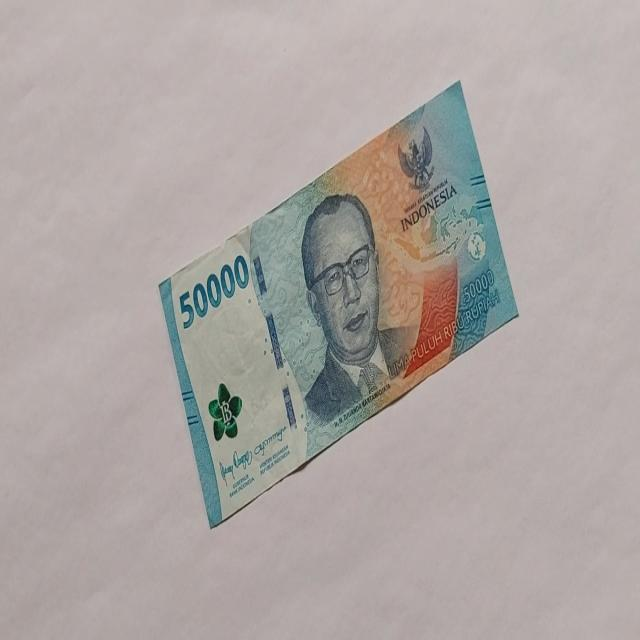lima puluh ribu rupiah: (156, 78, 520, 529), (299, 190, 411, 425), (178, 252, 250, 330)
